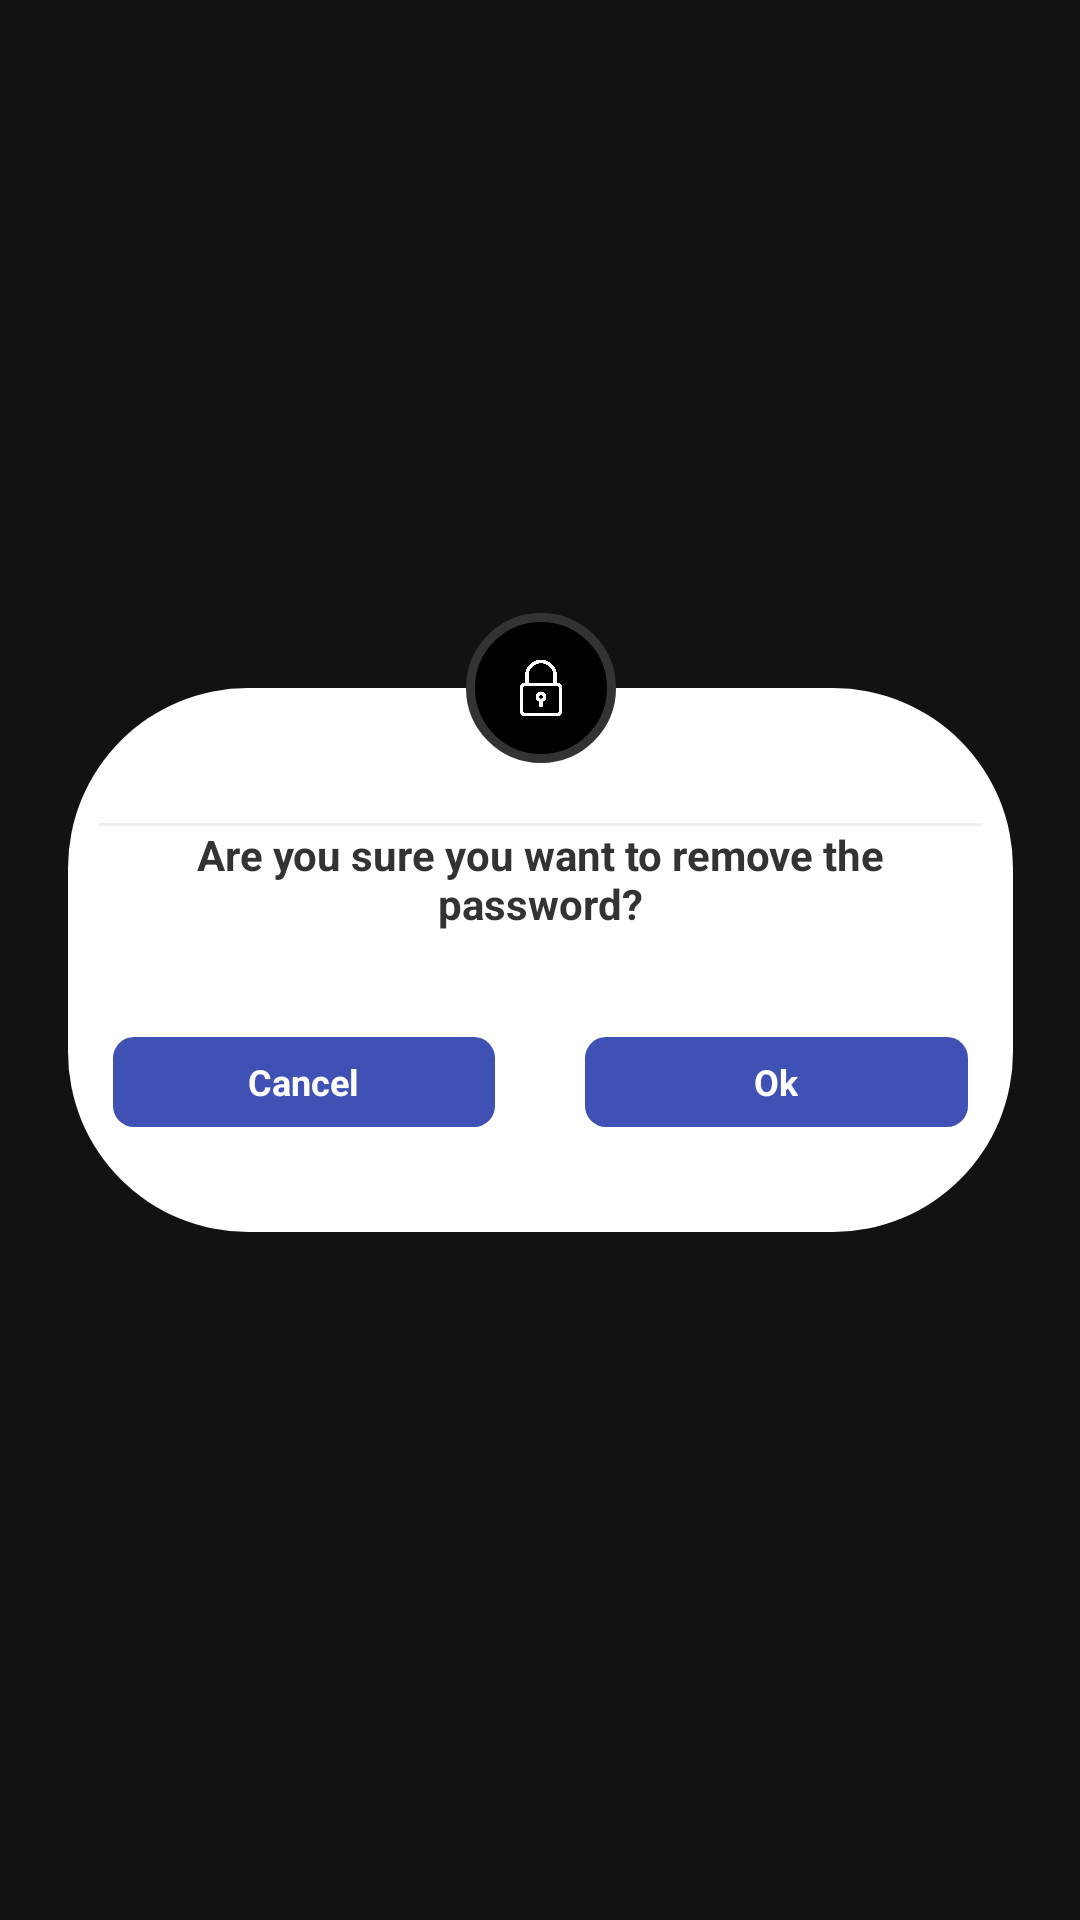

Icon click points for this 1080 × 1920 phone screenshot, format [x,y]:
locked: [541,688]
